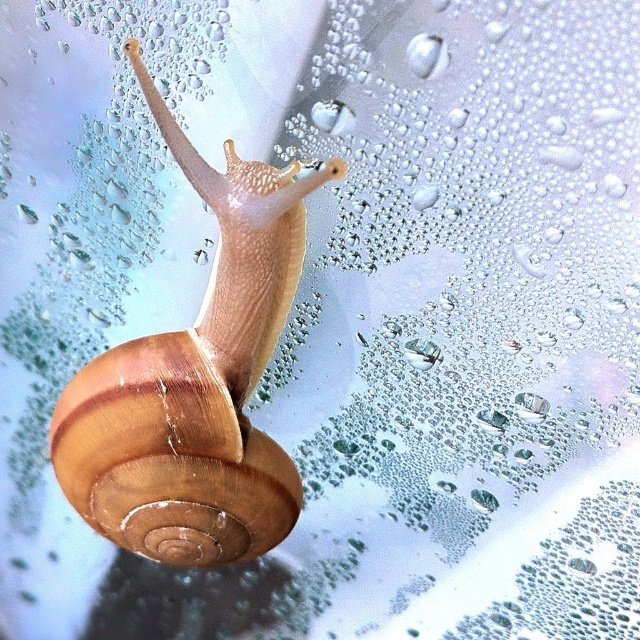Snail: (46, 32, 349, 567)
